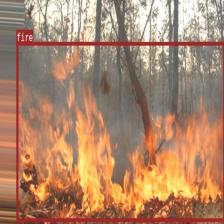fire: (16, 42, 224, 220)
